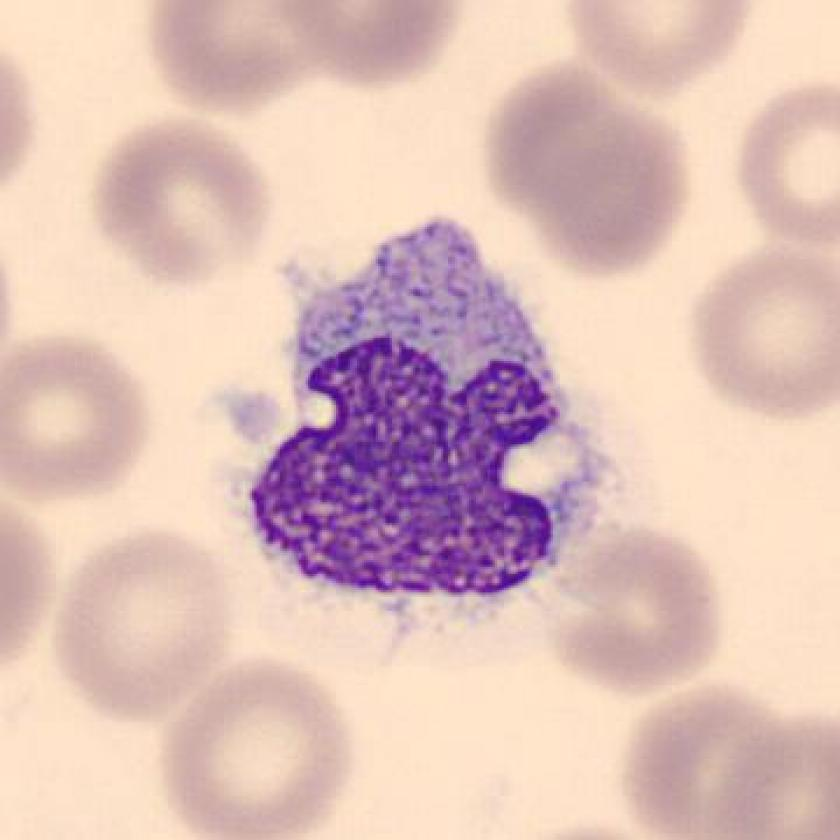monocyte: (190, 202, 631, 649)
